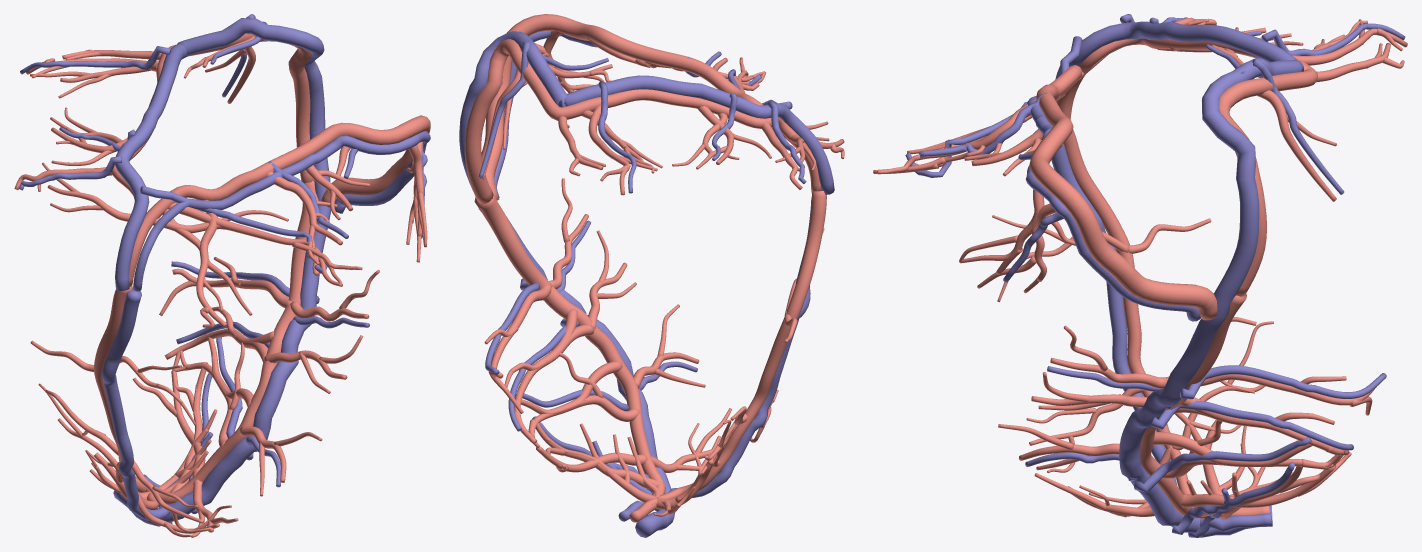
File: vessels_34.glb
3 renders of one model, left to right at view 1: azimuth 30°, elevation 25°; view 2: azimuth 150°, elevation 25°; view 3: azimuth 270°, elevation 25°, orthographic. The views are drawn at different scales.
Parts seen in each view (by area): view 1: Renderer Node; view 2: Renderer Node; view 3: Renderer Node.
Part boxes in pixels (x1,y1,x2,y2): Renderer Node: (14,14,430,537); Renderer Node: (459,14,844,537); Renderer Node: (873,14,1407,537).
Bounding box in the file's own units: 89.31 × 111 × 98.68.
